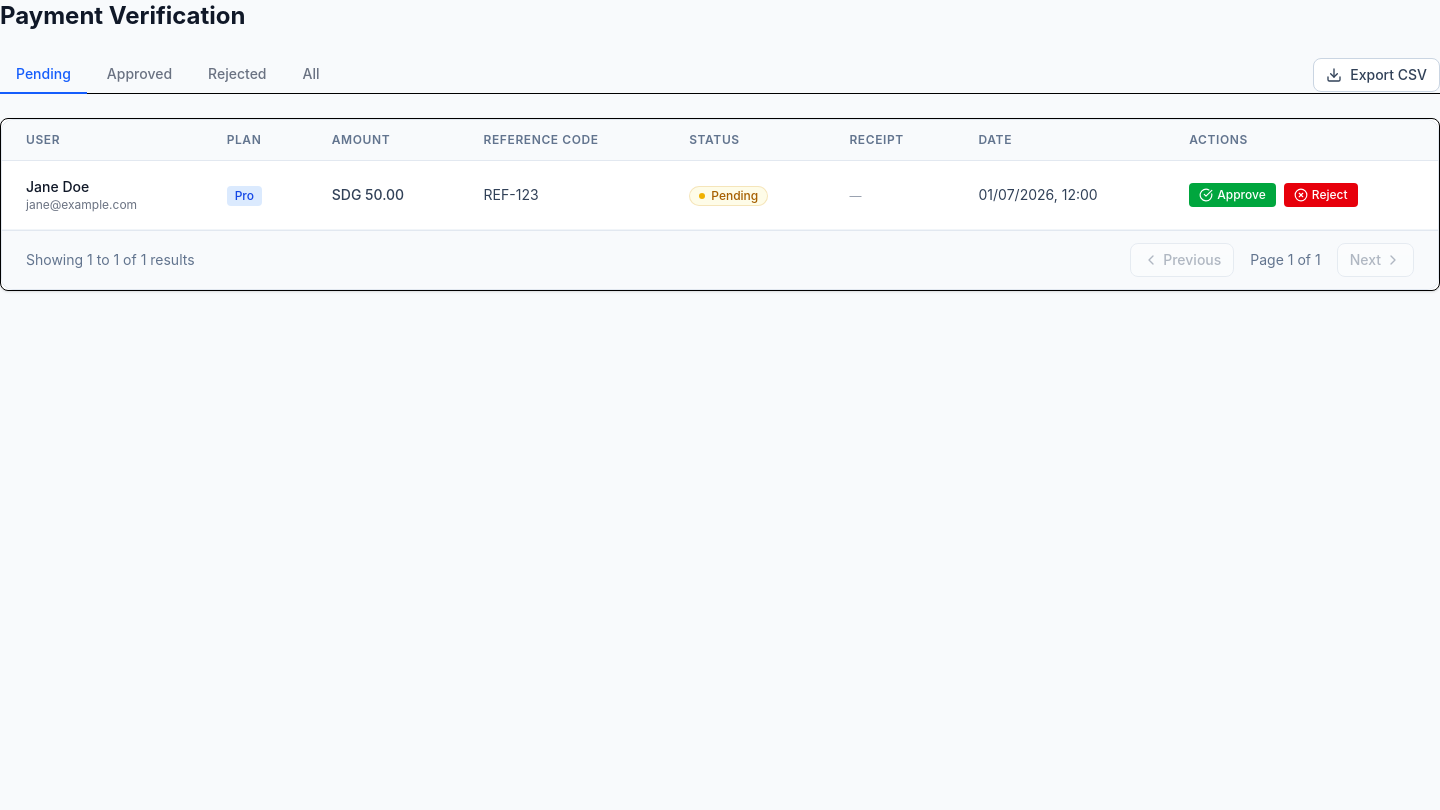
Test case: PaymentsPage › rejects a payment with a reason: sends it and raises a success toast
The image size is (1440, 810).
Expected: the text "Jane Doe" is shown, [26,178,89,195]
Click the button "Reject".
click(1321, 195)  # box [1284,183,1358,207]
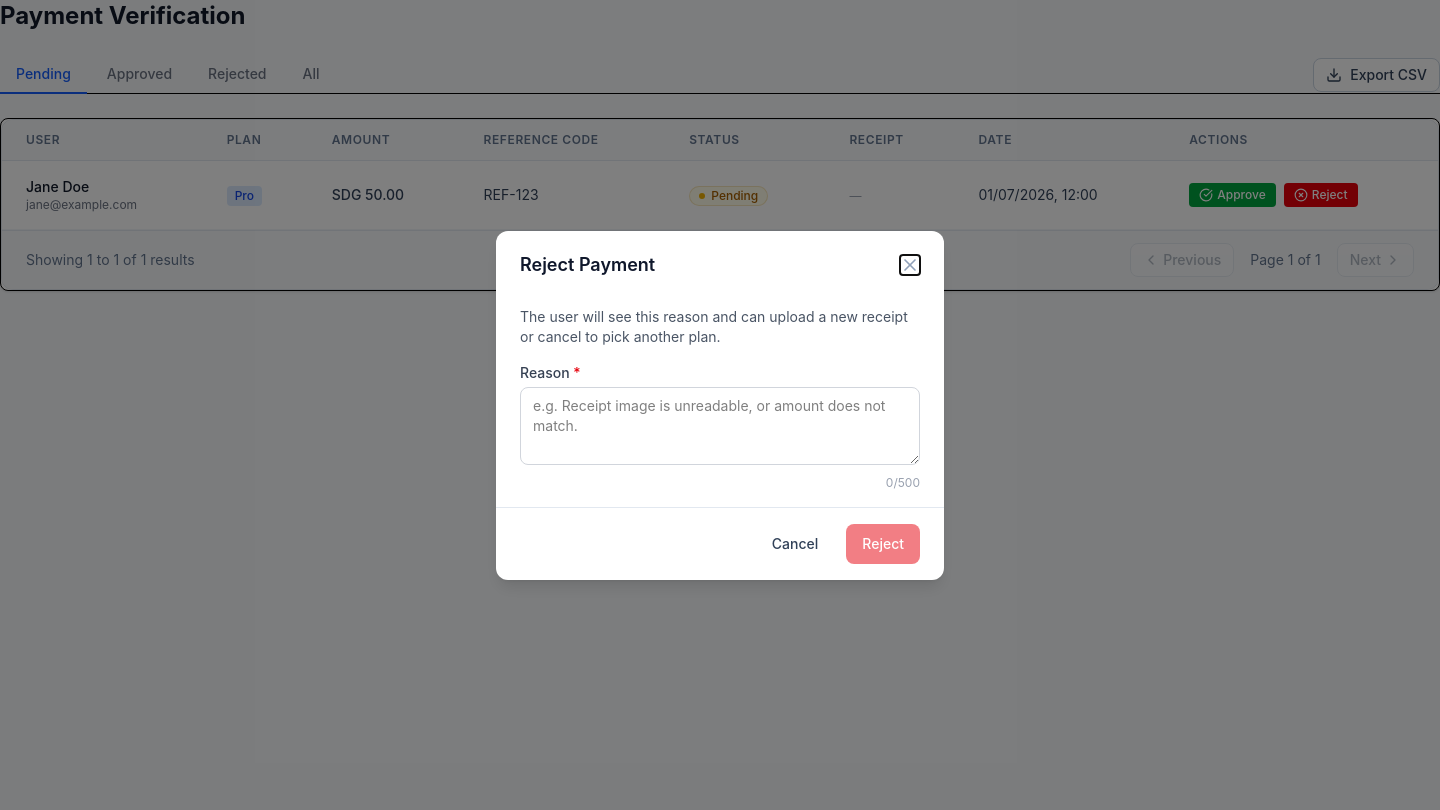
Type "Blurry receipt" into the text box.
click(720, 426); type("Blurry receipt")  # box [520,386,920,464]
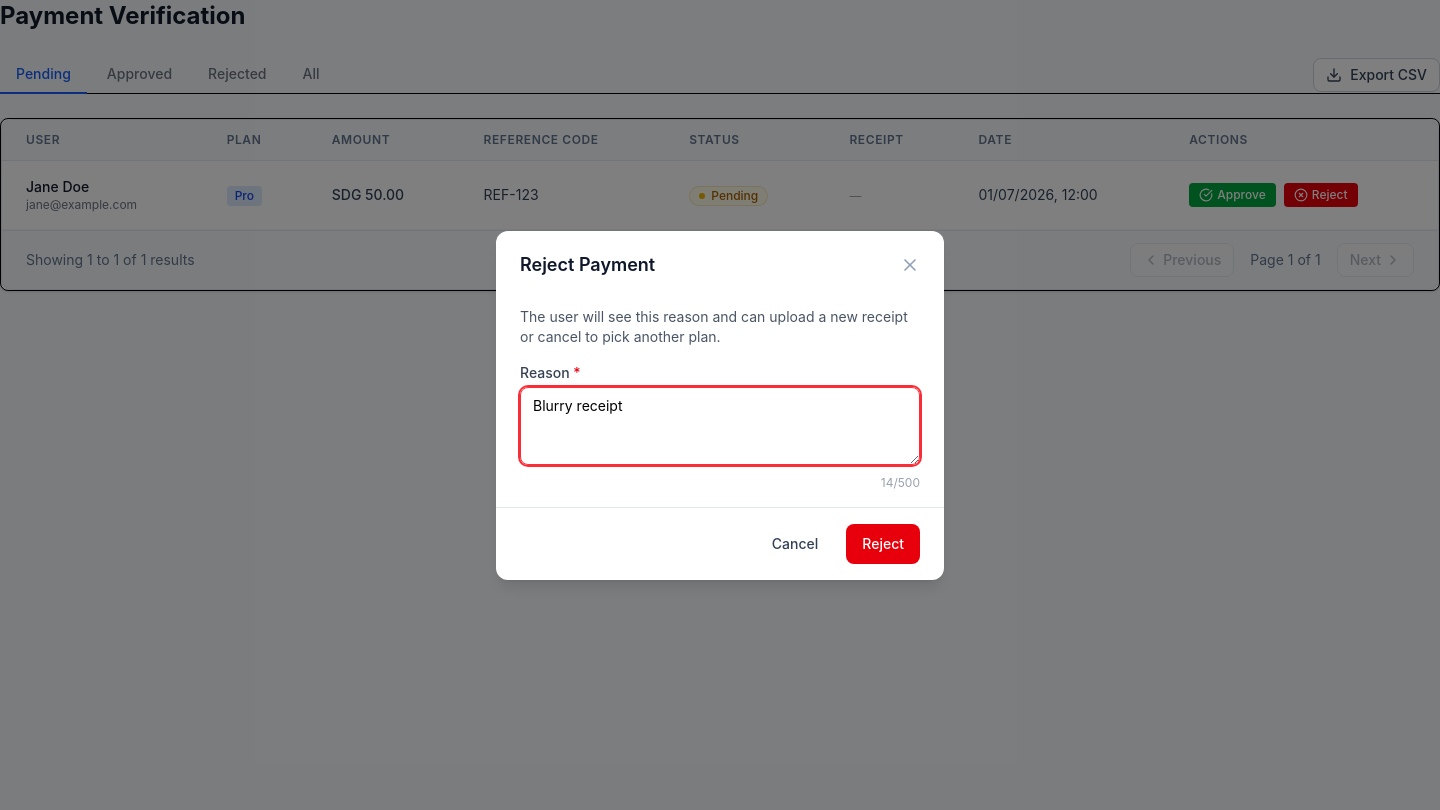
Click the button "Reject".
click(883, 544)  # box [846,524,920,564]
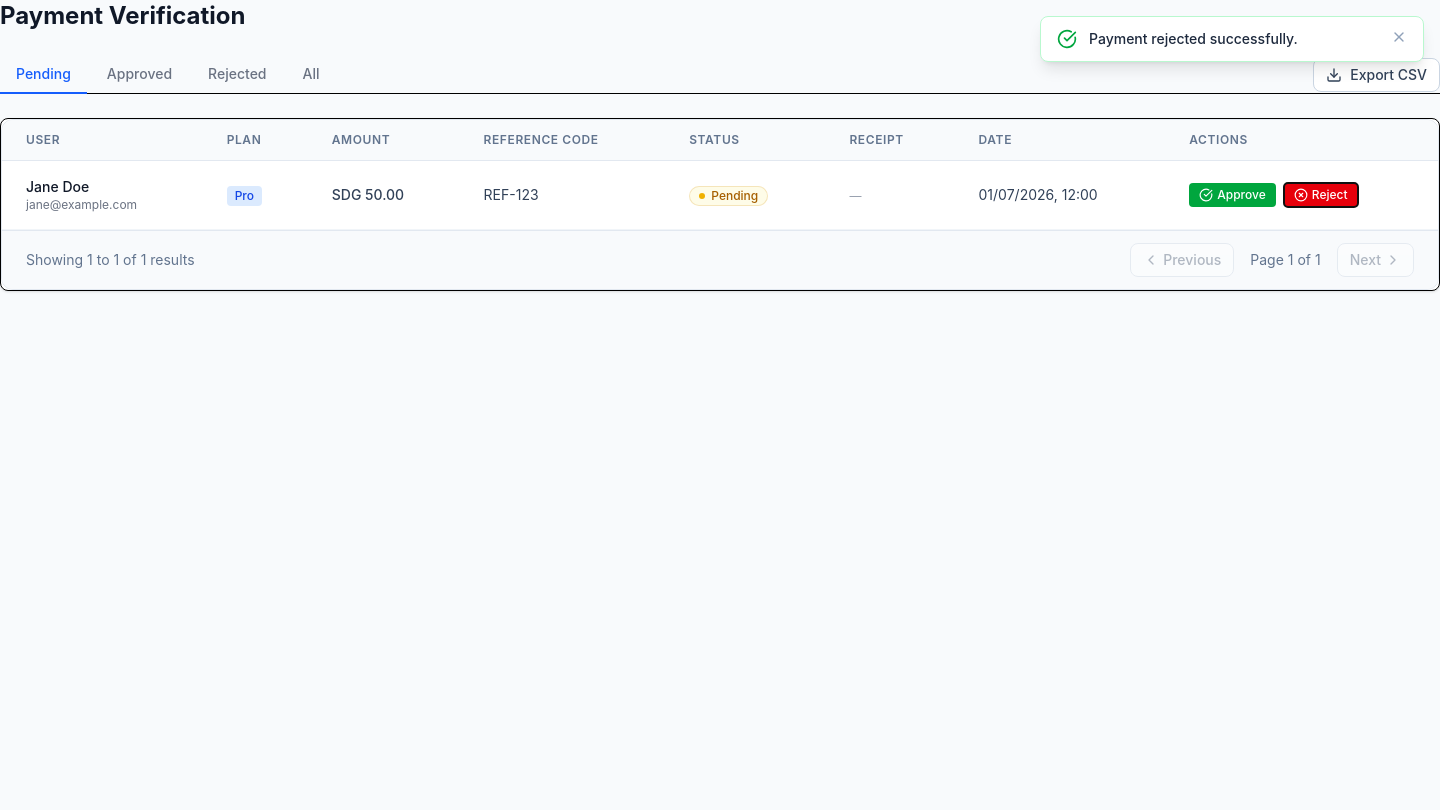
Expected: the text "Payment rejected successfully." is shown, [1089,30,1298,47]
